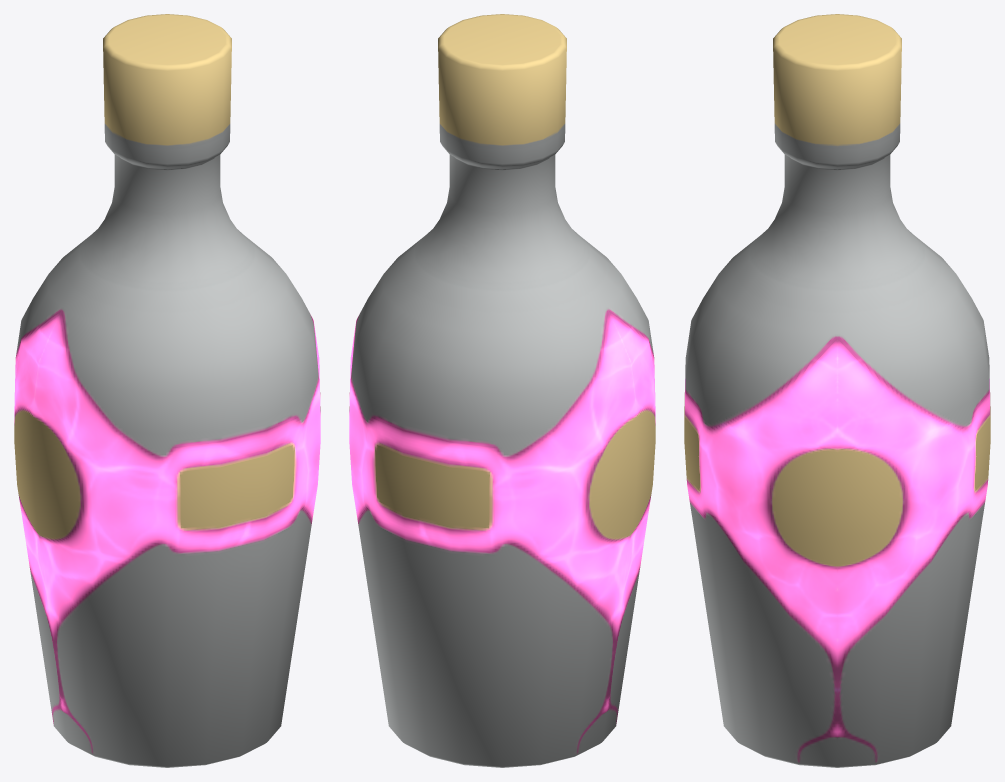
Rendered from BarBottle01_4.FBX.
3 renders of one model, left to right at view 1: azimuth 30°, elevation 25°; view 2: azimuth 150°, elevation 25°; view 3: azimuth 270°, elevation 25°, orthographic.
Parts seen in each view (by area): view 1: BarBottle01_4; view 2: BarBottle01_4; view 3: BarBottle01_4.
Boxes of the visible parts, x1,y1,x2,y2 form: BarBottle01_4: (14,14,320,767); BarBottle01_4: (349,14,655,767); BarBottle01_4: (684,14,990,767).
Size of what is drawn, in the model's own units: 0.1296 by 0.3128 by 0.1276.
